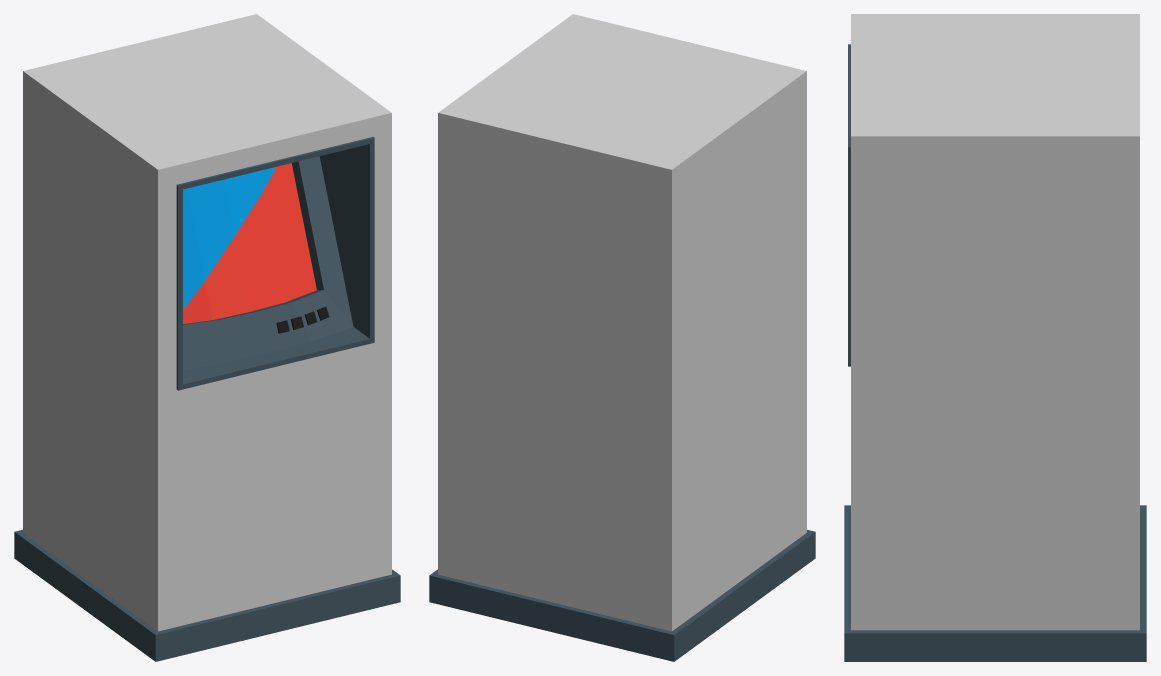
Rendered from vendingmachine5.glb.
The picture shows the model from 3 angles, left to right: view 1: azimuth 30°, elevation 25°; view 2: azimuth 150°, elevation 25°; view 3: azimuth 270°, elevation 25°; orthographic projection. The views are drawn at different scales.
Visible parts, largest first — view 1: Voting_machine_Cube.028; view 2: Voting_machine_Cube.028; view 3: Voting_machine_Cube.028.
Part boxes in pixels (x1=…): Voting_machine_Cube.028: x1=14, y1=14, x2=400, y2=661; Voting_machine_Cube.028: x1=429, y1=14, x2=815, y2=661; Voting_machine_Cube.028: x1=844, y1=14, x2=1146, y2=661.
Size of the model in its own units: 5.26 by 10.04 by 5.26.
